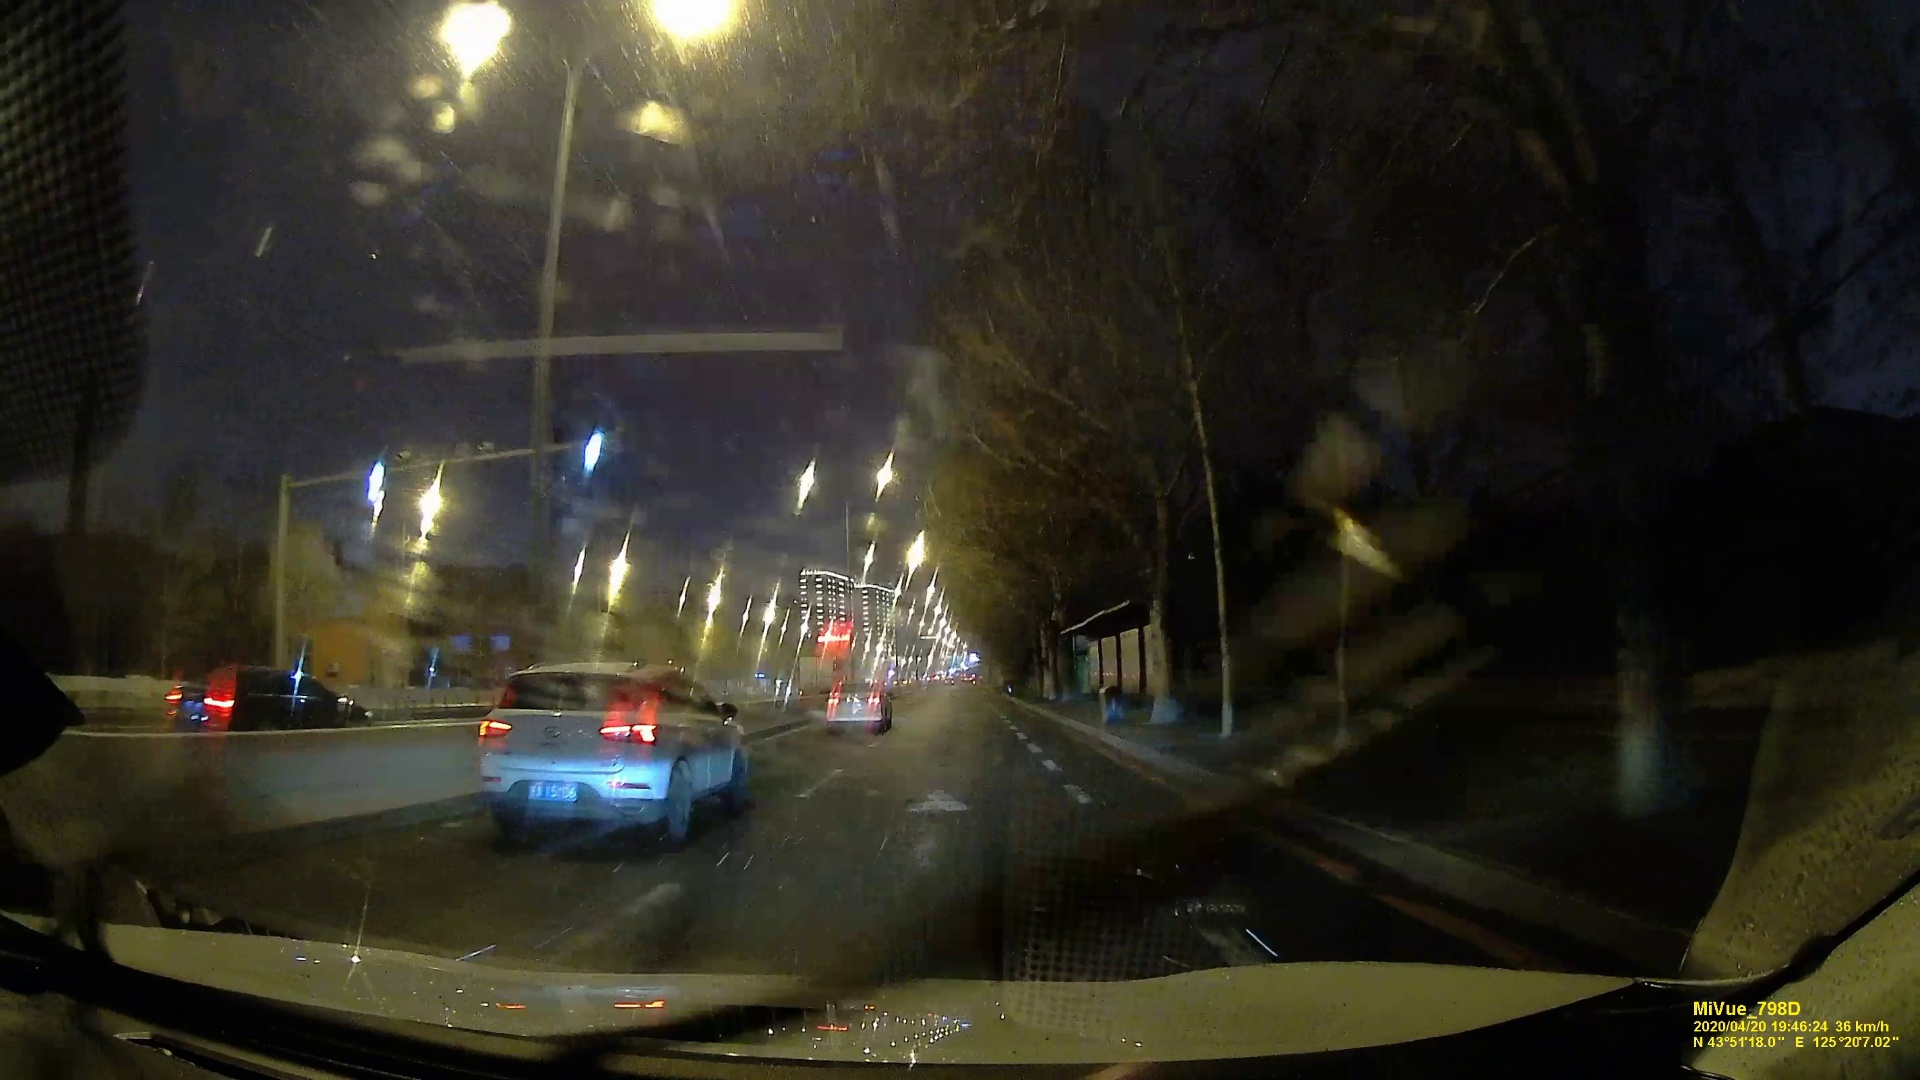vehicle: (469, 653, 753, 847), (156, 673, 368, 731), (825, 680, 890, 735)
